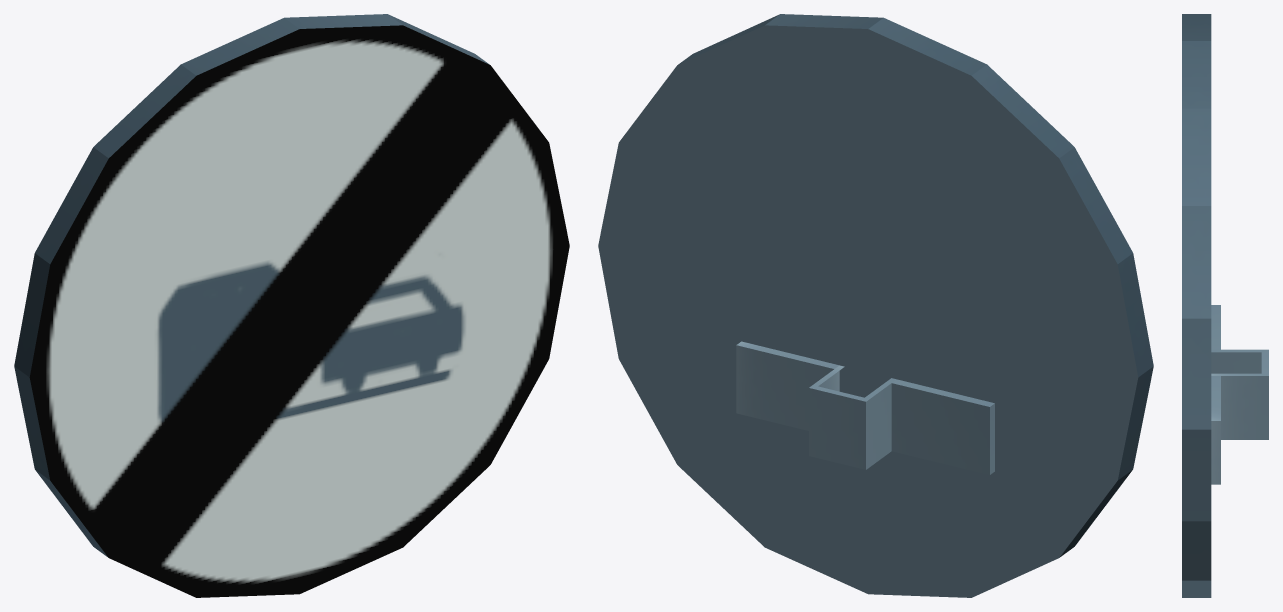
Rendered from Sign54Austrian.fbx.
The picture shows the model from 3 angles, left to right: view 1: azimuth 30°, elevation 25°; view 2: azimuth 150°, elevation 25°; view 3: azimuth 270°, elevation 25°; orthographic projection. The views are drawn at different scales.
Parts seen in each view (by area): view 1: Sign54Austrian; view 2: Sign54Austrian; view 3: Sign54Austrian.
Part boxes in pixels (x1,y1,x2,y2): Sign54Austrian: (14, 14, 569, 597); Sign54Austrian: (598, 14, 1153, 597); Sign54Austrian: (1182, 14, 1268, 597).
Bounding box in the file's own units: 1 × 1 × 0.1489.
